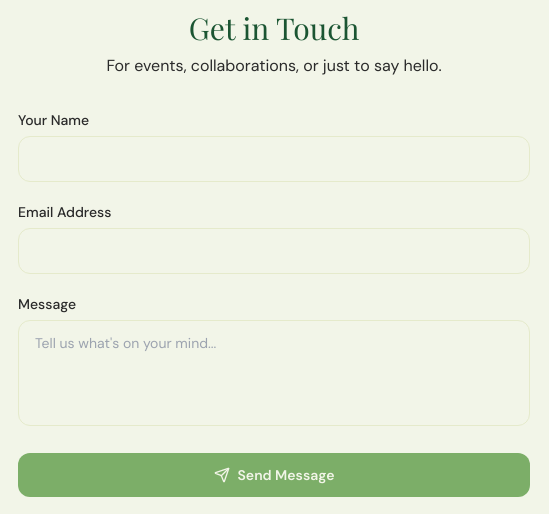
Test: ContactSection › disables the submit button while submitting
The width and height of the screenshot is (549, 514).
Type "Akansha" into the field labelled "Your Name" at (274, 159), box [18, 136, 530, 182]
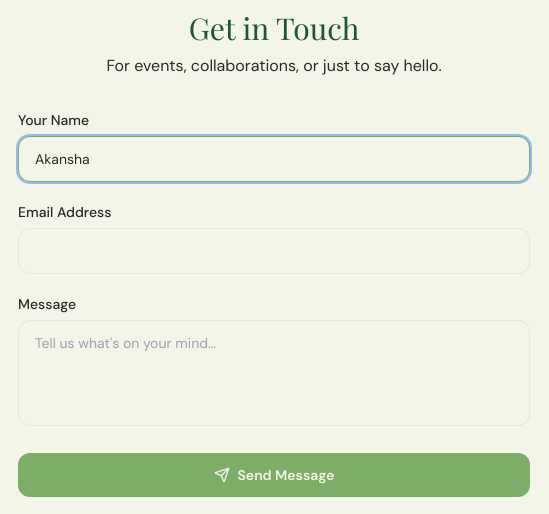
Type "a@example.com" into the field labelled "Email Address" at (274, 251), box [18, 228, 530, 274]
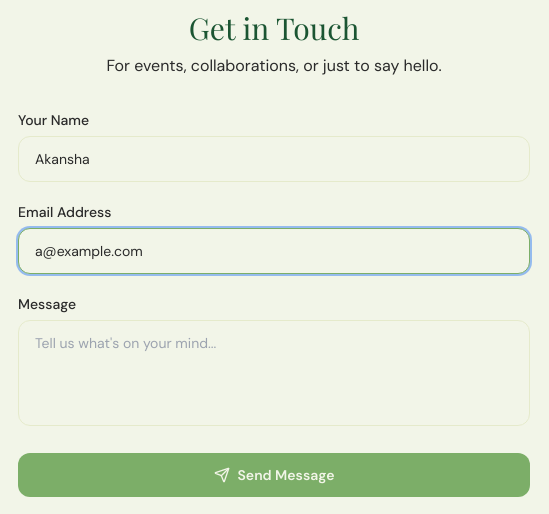
Type "Hello!" into the text box labelled "Message" at (274, 373), box [18, 320, 530, 426]
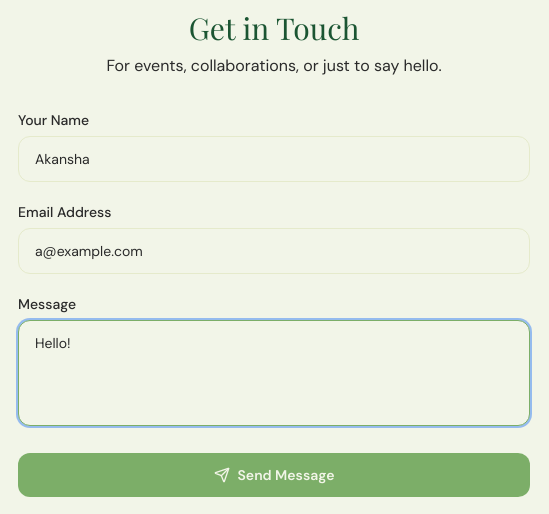
Click the button "Send Message" at (274, 475), box [18, 453, 530, 497]
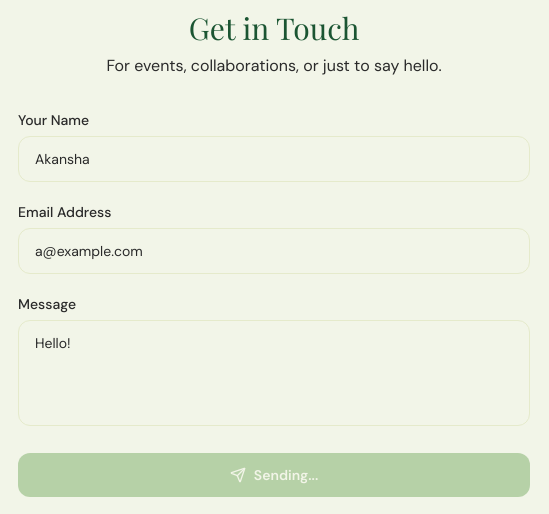
Expected: the button "Sending..." is disabled, [18, 453, 530, 497]
